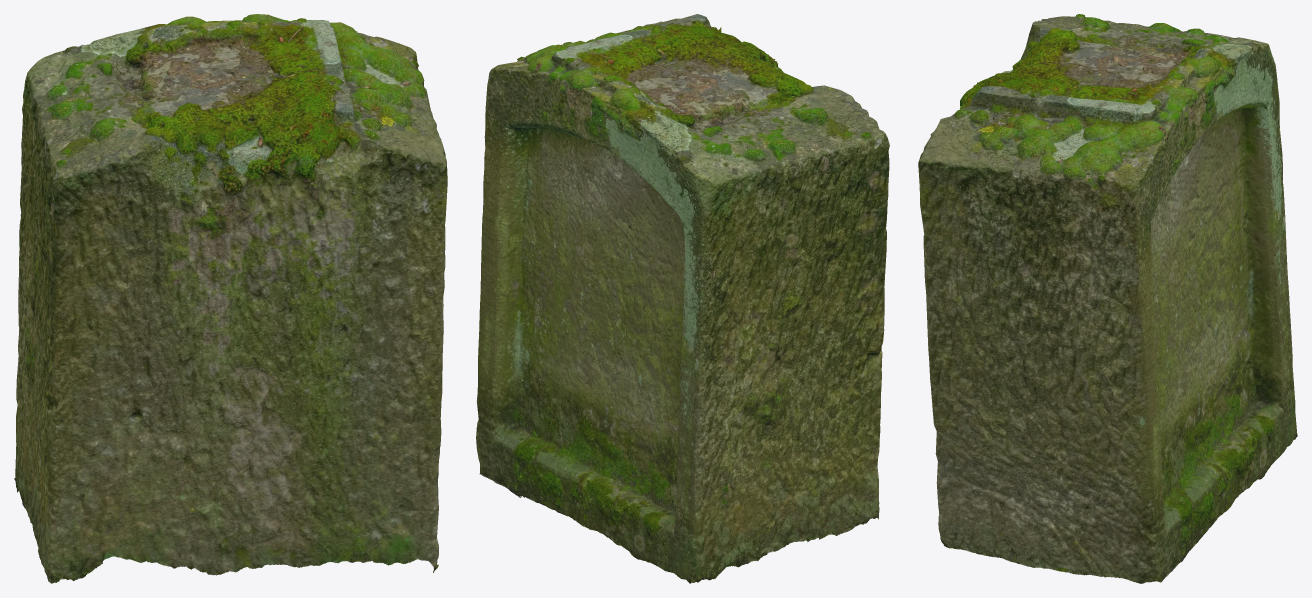
File: sketchfab-small-destroyed-tombstone-04.glb
3 views of the same model, side by side, from view 1: azimuth 30°, elevation 25°; view 2: azimuth 150°, elevation 25°; view 3: azimuth 270°, elevation 25° (orthographic). The views are drawn at different scales.
Visible parts, largest first — view 1: Object_2, Object_3; view 2: Object_3, Object_2; view 3: Object_2, Object_3.
Boxes of the visible parts, box(x1,y1,x2,y2) form: Object_2: box(14, 14, 447, 583); Object_3: box(14, 16, 444, 583); Object_3: box(483, 21, 889, 583); Object_2: box(476, 14, 884, 582); Object_2: box(918, 14, 1297, 583); Object_3: box(930, 20, 1297, 547).
Bounding box in the file's own units: 0.3849 × 0.4408 × 0.3413.
Materials: 2 (2 with a texture image).
